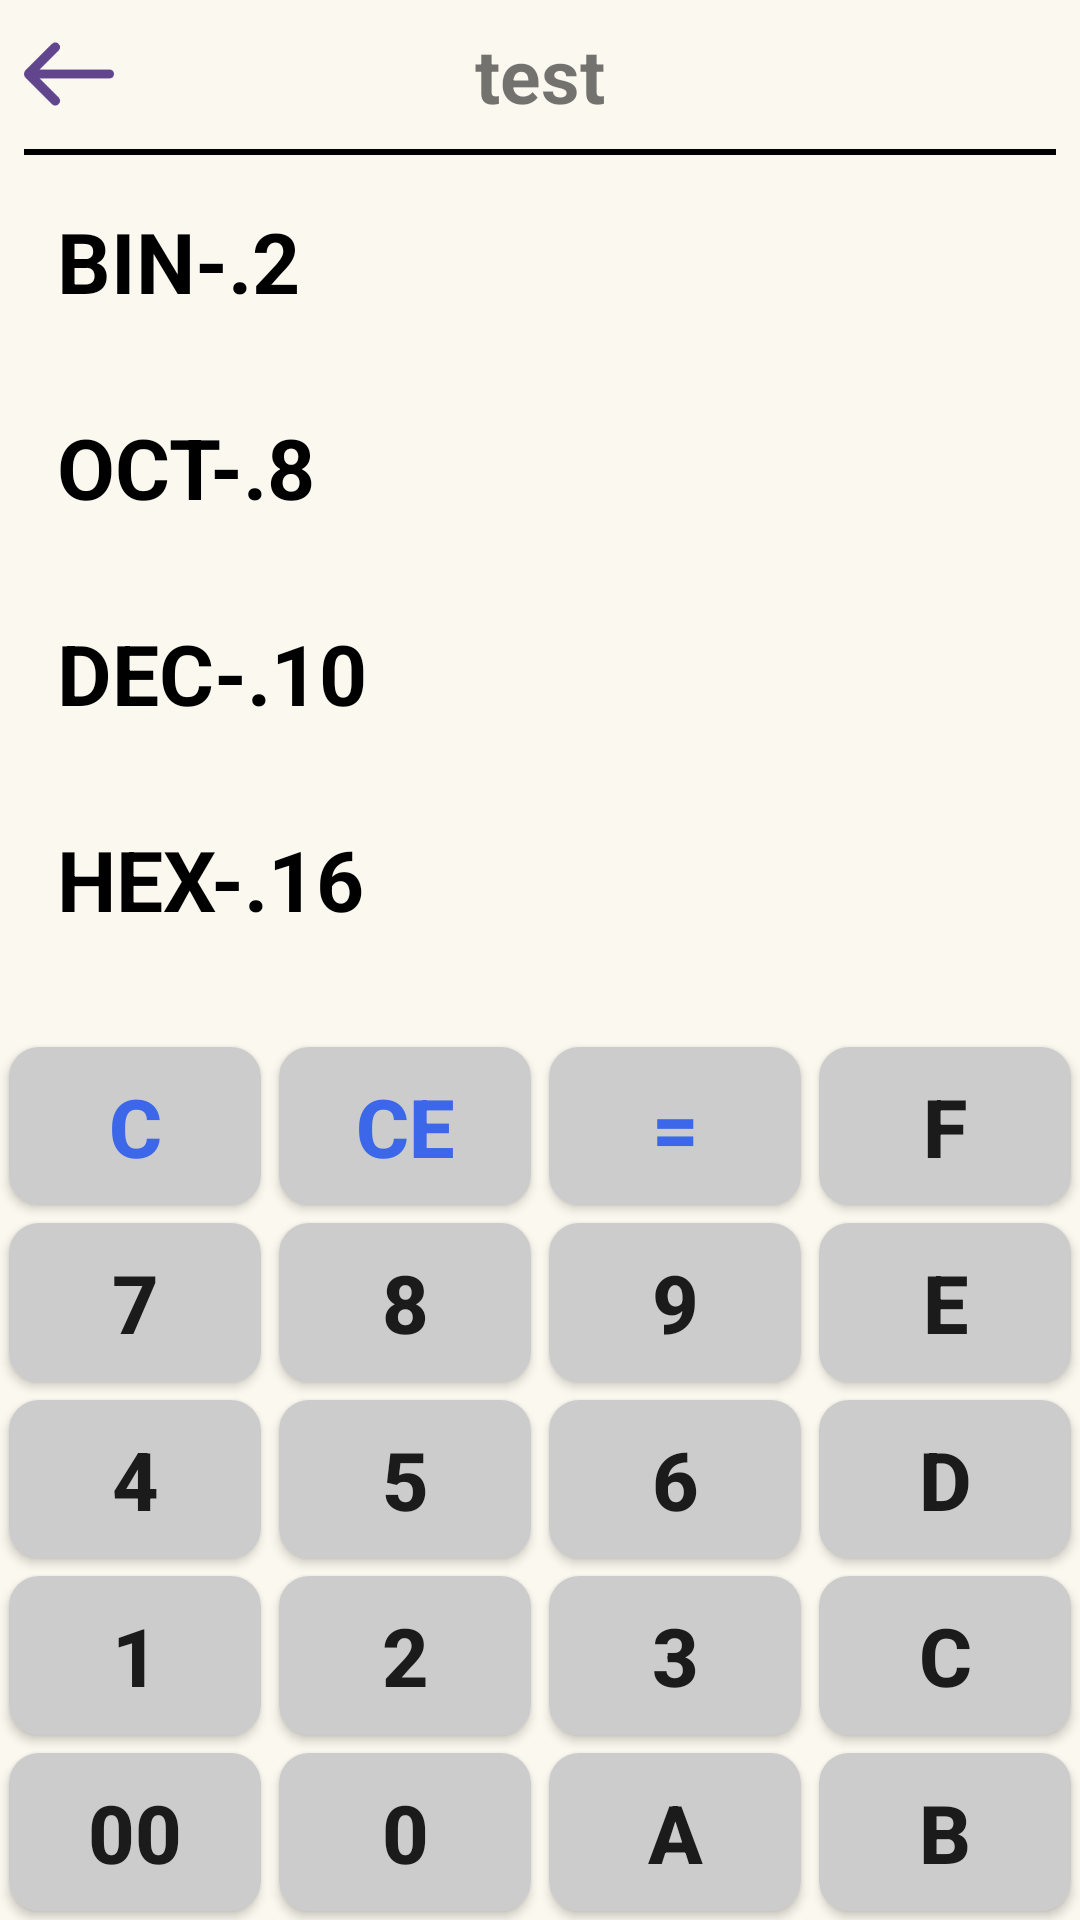

Icon click points for this 1080 × 1920 phone screenshot, format (x,y):
back: (69,74)
